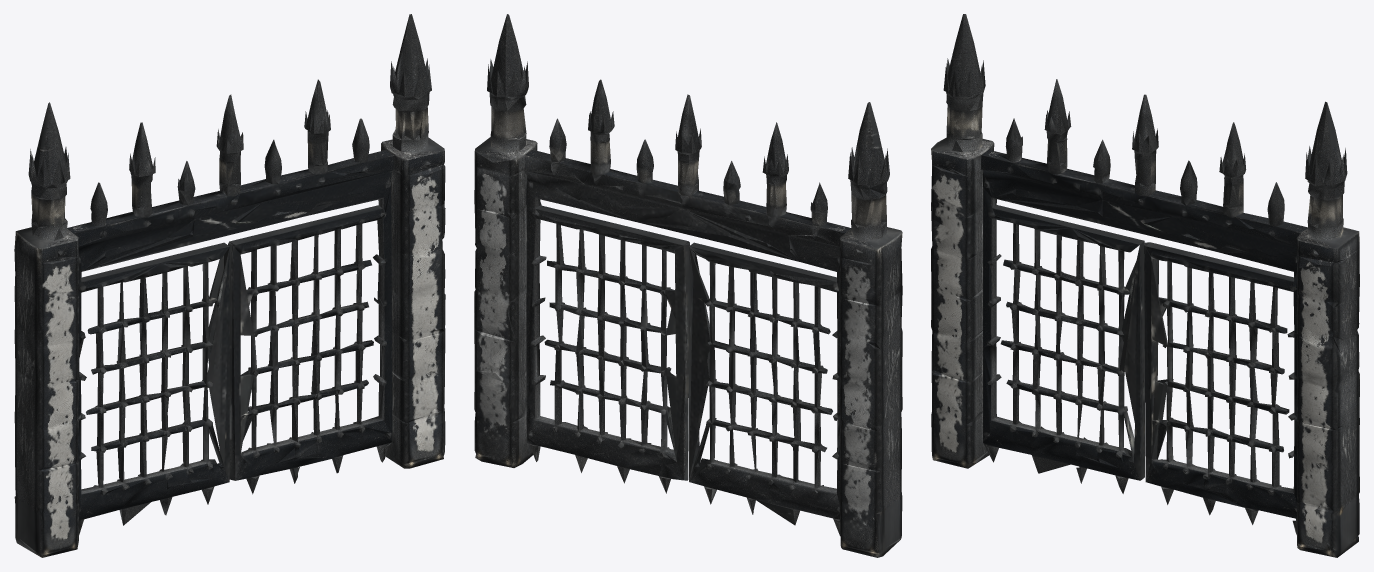
The model's file is Herse.fbx.
The picture shows the model from 3 angles, left to right: view 1: azimuth 30°, elevation 25°; view 2: azimuth 150°, elevation 25°; view 3: azimuth 330°, elevation 25°; orthographic projection.
Parts seen in each view (by area): view 1: Mesh_0; view 2: Mesh_0; view 3: Mesh_0.
Part boxes in pixels (box(x1,y1,x2,y2)): Mesh_0: box(14, 14, 445, 557); Mesh_0: box(474, 14, 902, 557); Mesh_0: box(931, 14, 1359, 557).
Size of the model in its own units: 184 by 190 by 23.21.
1 material, 1 textured.
